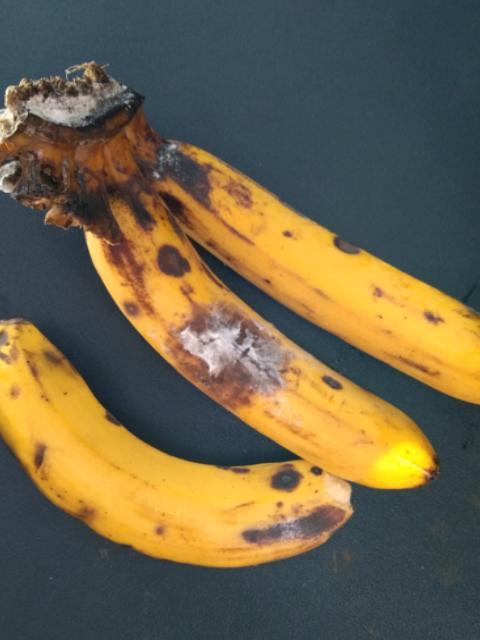ripe: (0, 308, 364, 587), (162, 120, 479, 413)
rotten: (82, 187, 454, 500)
